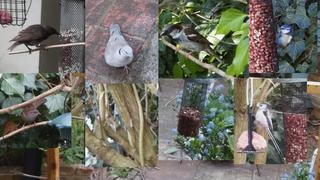blue tit: (273, 24, 293, 54)
collared dove: (104, 24, 134, 75)
dunnock: (21, 97, 47, 131)
long tailed tit: (253, 102, 283, 158)
sparrow: (160, 24, 225, 65)
starling: (7, 24, 61, 54)
